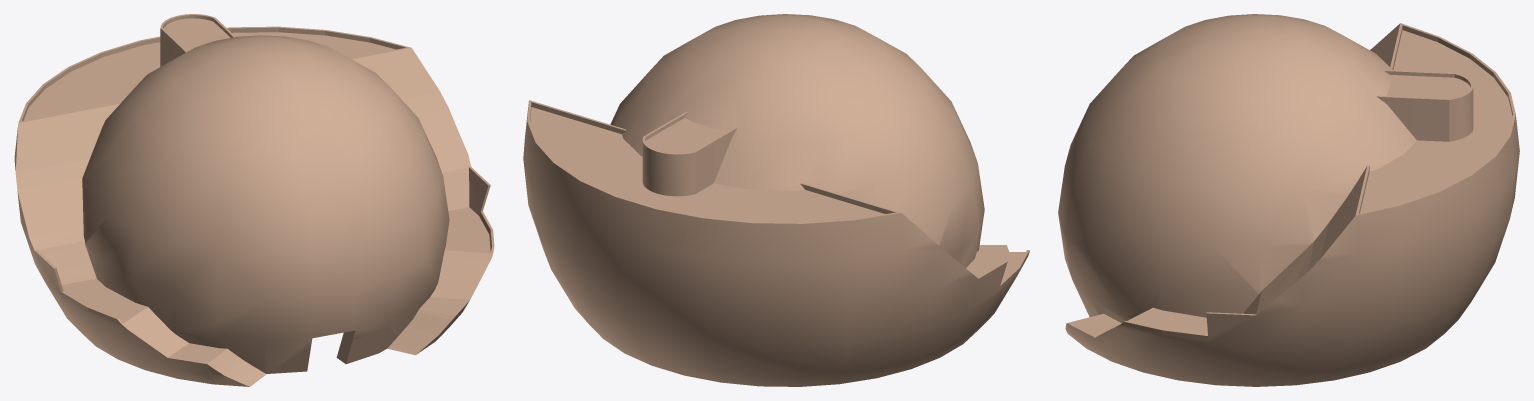
Rendered from cecut.fbx.
The picture shows the model from 3 angles, left to right: view 1: azimuth 30°, elevation 25°; view 2: azimuth 150°, elevation 25°; view 3: azimuth 270°, elevation 25°; orthographic projection. The views are drawn at different scales.
Parts seen in each view (by area): view 1: ID1030_1; view 2: ID1030_1; view 3: ID1030_1.
Boxes of the visible parts, x1,y1,x2,y2 form: ID1030_1: (14, 14, 494, 386); ID1030_1: (523, 14, 1029, 386); ID1030_1: (1058, 14, 1519, 386).
Size of the model in its own units: 3891 by 2250 by 3503.
